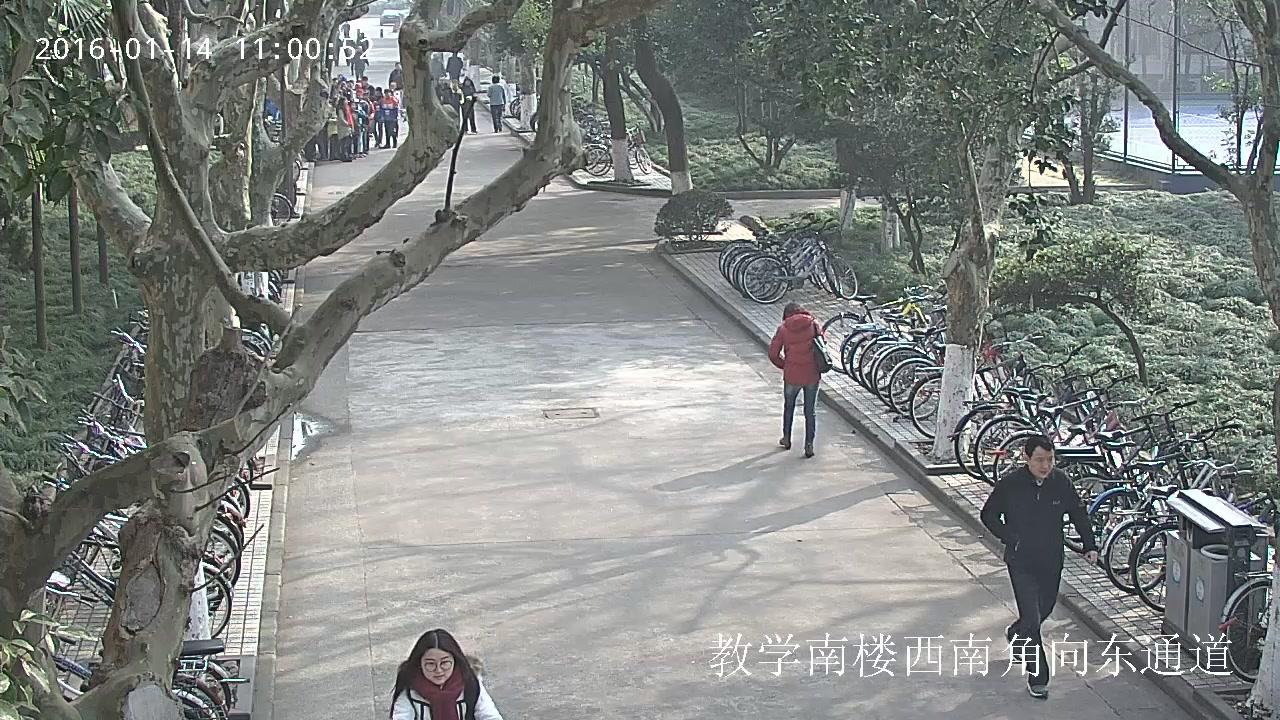person: (978, 434, 1097, 699), (389, 629, 503, 720), (768, 302, 832, 457), (378, 88, 398, 149), (335, 95, 353, 161), (486, 76, 506, 133), (458, 77, 477, 133), (353, 94, 369, 154), (446, 50, 463, 95), (371, 86, 383, 146), (350, 99, 362, 157), (389, 62, 404, 104), (351, 47, 369, 80)
